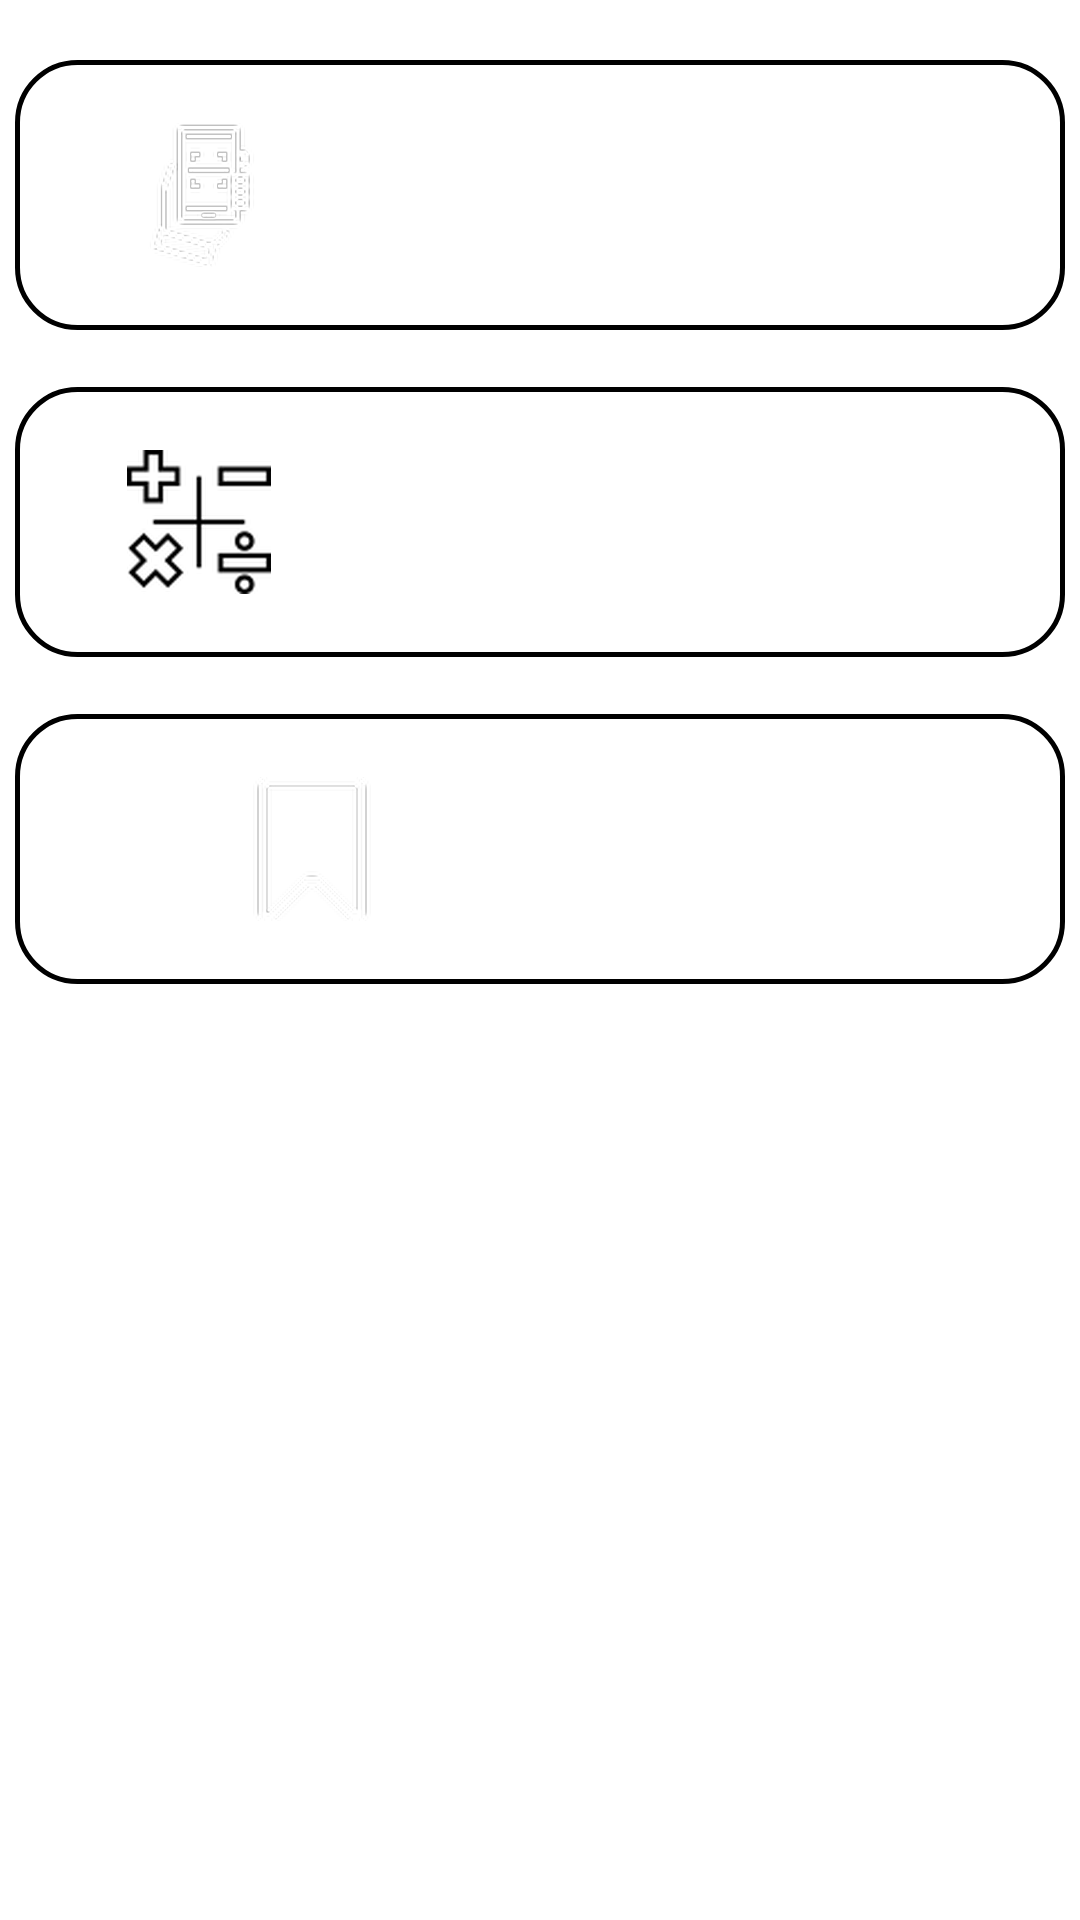

Locate icon controls on the screen. Image size 1080 × 1920, boxes as {"x1": x1, "y1": y1, "x2": x2, "y2": y2}.
calc: {"x1": 127, "y1": 450, "x2": 271, "y2": 594}
scanico: {"x1": 154, "y1": 124, "x2": 250, "y2": 265}
